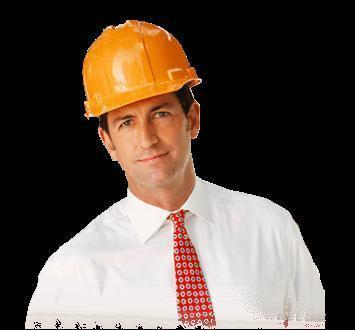helmet: (82, 19, 201, 118)
